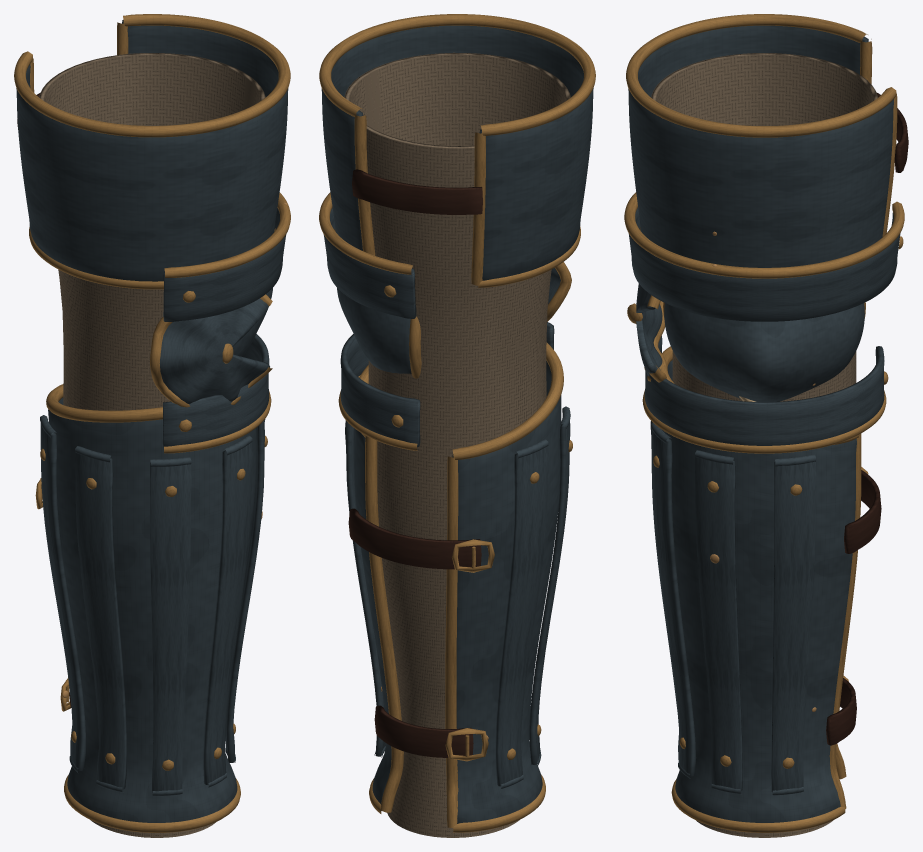
3 renders of one model, left to right at view 1: azimuth 30°, elevation 25°; view 2: azimuth 150°, elevation 25°; view 3: azimuth 270°, elevation 25°, orthographic.
Parts seen in each view (by area): view 1: blackened lamellar plate, quilted linen lining, aged alloy edge; view 2: blackened lamellar plate, quilted linen lining, aged alloy edge, oiled strap leather; view 3: blackened lamellar plate, aged alloy edge, quilted linen lining, oiled strap leather.
Part boxes in pixels (x1=…): blackened lamellar plate: x1=16, y1=20, x2=288, y2=822; quilted linen lining: x1=39, y1=53, x2=265, y2=837; aged alloy edge: x1=14, y1=14, x2=290, y2=832; blackened lamellar plate: x1=321, y1=25, x2=593, y2=823; quilted linen lining: x1=344, y1=52, x2=570, y2=837; aged alloy edge: x1=319, y1=14, x2=595, y2=832; oiled strap leather: x1=348, y1=169, x2=482, y2=757; blackened lamellar plate: x1=628, y1=25, x2=900, y2=822; aged alloy edge: x1=624, y1=14, x2=904, y2=832; quilted linen lining: x1=651, y1=53, x2=877, y2=837; oiled strap leather: x1=826, y1=92, x2=908, y2=745.
Bounding box in the file's own units: 0.1509 × 0.4439 × 0.1548.
Materials: 6 (4 with a texture image).
